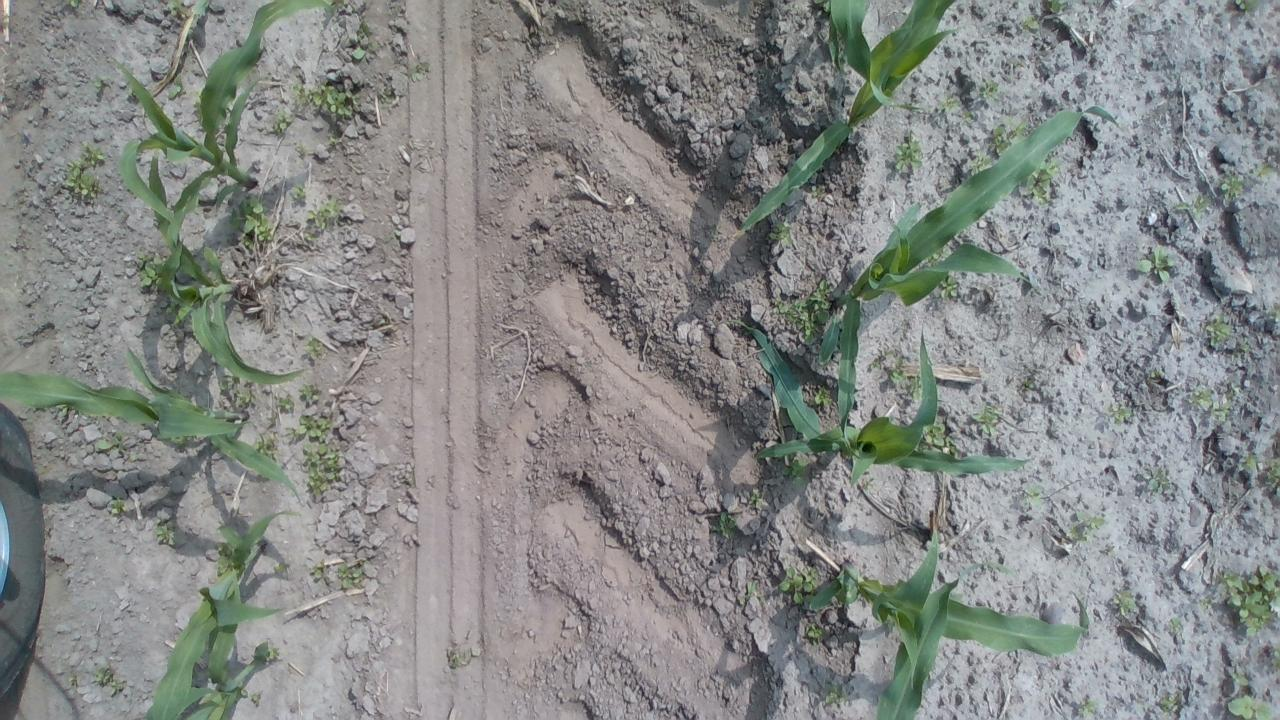Maize: (821, 104, 1124, 434), (724, 0, 968, 250), (740, 291, 1032, 492), (805, 514, 1084, 718), (115, 1, 342, 244), (0, 348, 306, 500), (144, 147, 311, 384), (136, 509, 302, 720)
Weeds: (298, 382, 348, 499), (1215, 562, 1279, 638), (776, 276, 839, 350), (228, 196, 276, 257), (293, 80, 359, 124), (291, 186, 342, 237), (1224, 673, 1278, 720), (64, 141, 104, 204), (1136, 244, 1182, 286), (778, 566, 819, 609), (891, 130, 926, 178), (1240, 449, 1280, 489), (137, 253, 177, 293), (964, 551, 1010, 583), (1064, 510, 1102, 548), (1174, 192, 1214, 228), (1190, 387, 1230, 423), (1024, 156, 1056, 201), (987, 123, 1029, 156), (350, 22, 384, 62), (1140, 466, 1179, 500), (1200, 309, 1235, 346), (220, 378, 263, 408), (442, 642, 484, 672), (938, 91, 974, 125), (958, 144, 994, 178), (92, 665, 128, 697), (768, 219, 798, 254), (1110, 588, 1141, 621), (97, 426, 131, 456), (918, 422, 956, 448), (975, 404, 1001, 440), (880, 352, 906, 388), (336, 560, 366, 590), (779, 459, 808, 490), (824, 679, 855, 707), (1105, 396, 1136, 424), (212, 540, 236, 576), (714, 509, 740, 542), (1219, 171, 1247, 201), (403, 53, 431, 83), (155, 518, 183, 548), (270, 109, 298, 138), (254, 435, 284, 462), (1232, 336, 1260, 364), (938, 274, 964, 304), (1155, 688, 1185, 711), (310, 556, 332, 586), (1021, 483, 1042, 513), (980, 80, 1000, 110), (800, 620, 826, 643), (255, 642, 281, 665), (810, 384, 834, 408), (302, 336, 326, 360), (166, 74, 186, 99), (157, 1, 191, 15), (1164, 616, 1185, 638), (275, 392, 295, 414), (748, 490, 766, 514), (1018, 18, 1044, 34), (1076, 694, 1096, 714), (1255, 162, 1277, 180), (64, 666, 80, 690), (91, 78, 110, 98), (271, 560, 290, 578), (110, 499, 128, 518), (1046, 0, 1070, 14), (741, 576, 752, 604), (53, 404, 75, 418), (1233, 0, 1258, 12), (1198, 594, 1214, 612), (1268, 646, 1280, 670), (249, 689, 263, 708), (1265, 307, 1280, 324), (1104, 545, 1122, 558), (68, 1, 82, 8)
